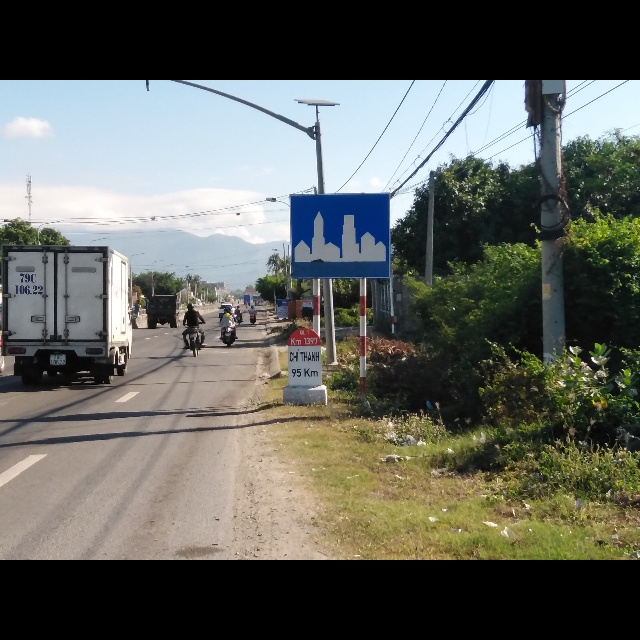Khu đông dân cư: (290, 191, 395, 278)
